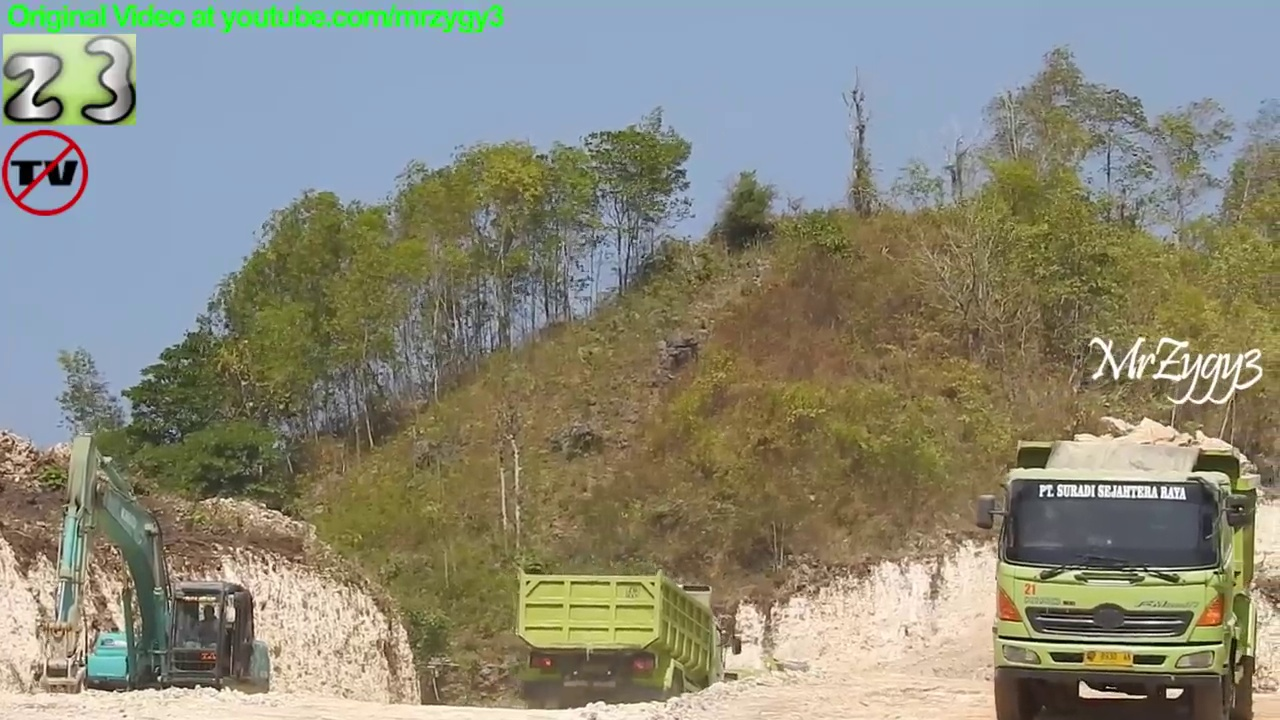excavator: (30, 427, 278, 720)
truck: (968, 431, 1267, 720), (507, 558, 748, 720)
